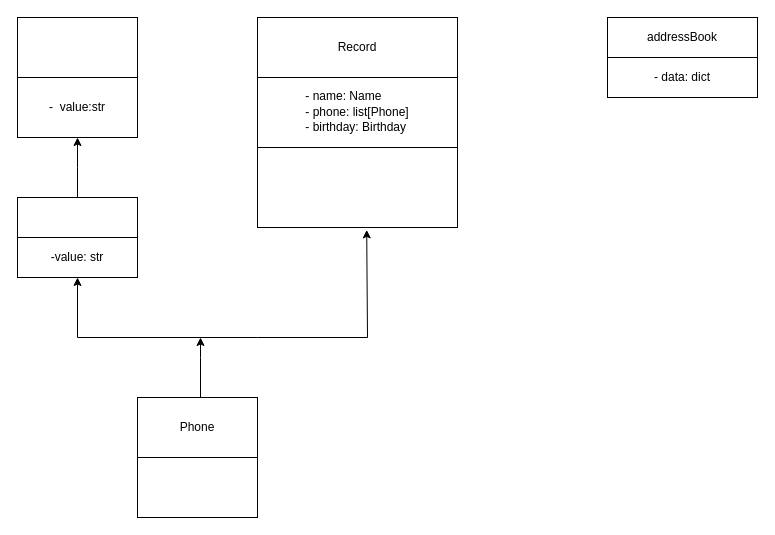
Image size: 775x535. Some labels were removed from this diagram. Here are the shapes that lost their labels. From the top down, the centre of each, then its label:
At point (77, 47): "Field".
At point (357, 187): "+ add_phone() + remove_phone() + edit_phone() + add_birthday()".
At point (77, 217): "Name".
At point (197, 487): "- value: str".
